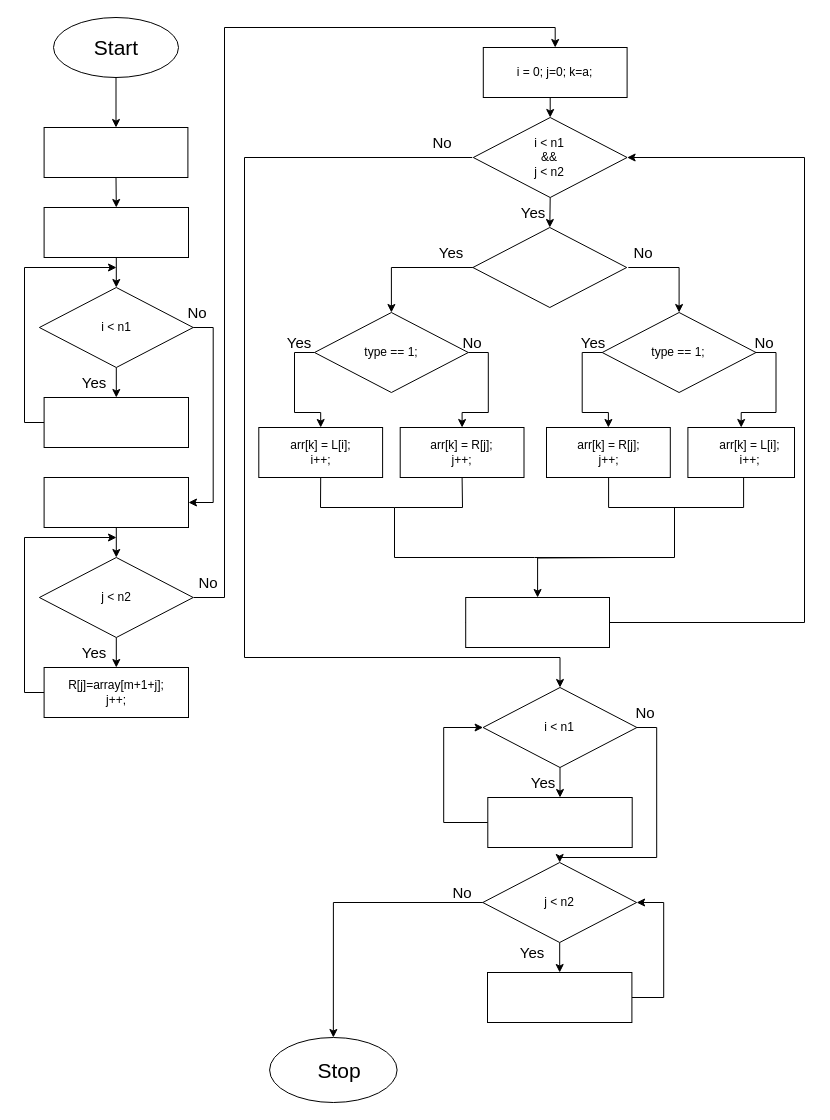
Some shapes in this 830 by 1120 pixel diagram are drawn without their labels. Here are the shapes that lost their labels. From the top down, the centre of each, then its label:
point (115, 152): n1 = m - a+ 1; n2 = b - m;
point (115, 232): i = 0;
point (549, 267): L[i]<R[j]
point (115, 422): L[i]=array[a+i]; i++;
point (115, 502): j = 0;
point (537, 622): k++
point (559, 822): array[k]=L[i]; k++; i++;
point (559, 997): array[k]=R[j]; k++; j++;
